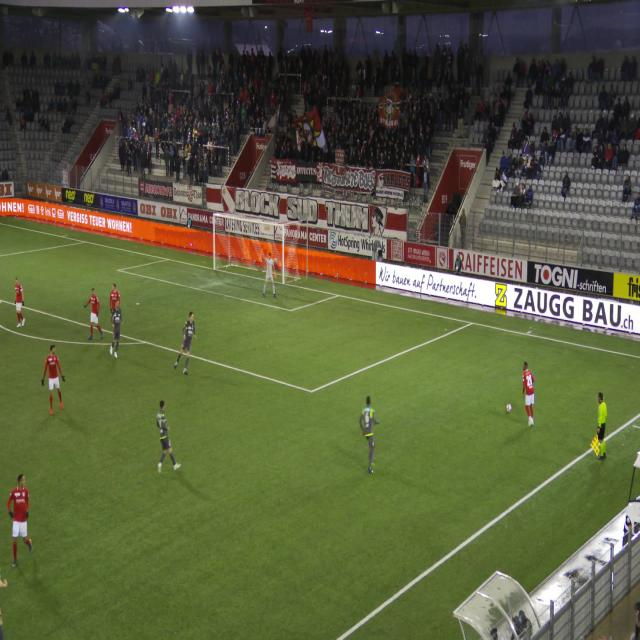Ball: (502, 393, 514, 422)
Player: (0, 464, 42, 584), (33, 338, 72, 419), (150, 396, 187, 479), (353, 388, 382, 480), (171, 307, 200, 382), (518, 361, 542, 438), (7, 268, 30, 332), (108, 292, 127, 364), (82, 283, 102, 341), (259, 247, 279, 304), (107, 280, 121, 303)
Referee: (583, 384, 614, 471)
